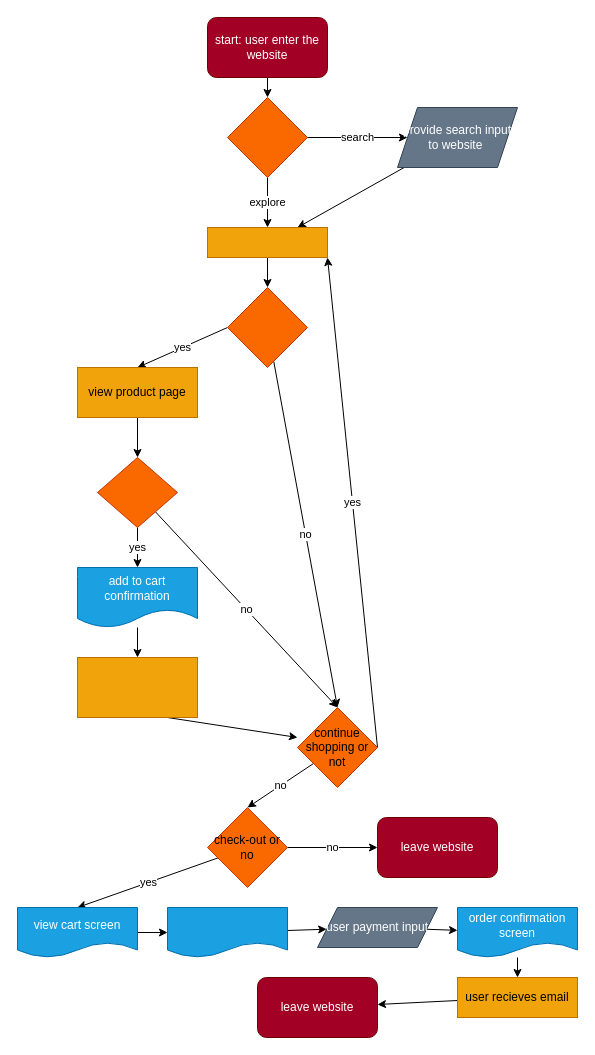
Some shapes in this 595 by 1055 pixel diagram are drawn without their labels. The shapes that lost their labels are listed below. From the top down, each one's centre as x and y in pixels, then its label:
point 267,137: search or explore
point 267,242: look over products
point 267,327: view products or not
point 137,492: add to cart or not
point 137,687: add product to user cart
point 227,932: view payment screen
